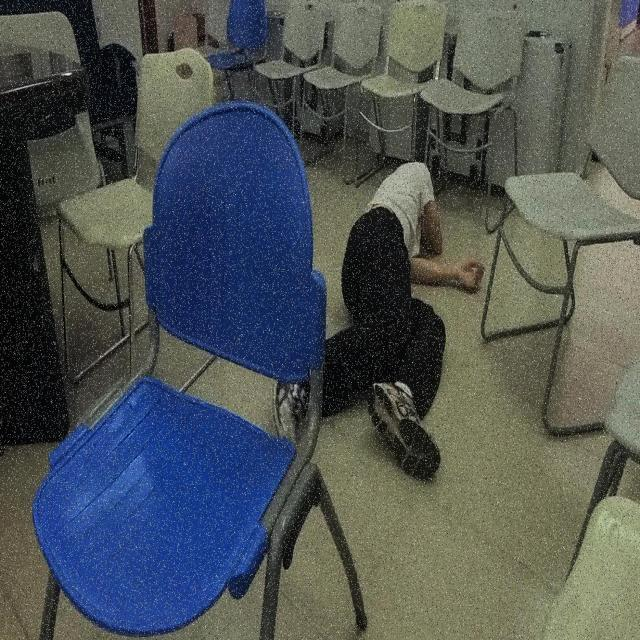fall: (272, 158, 484, 464)
